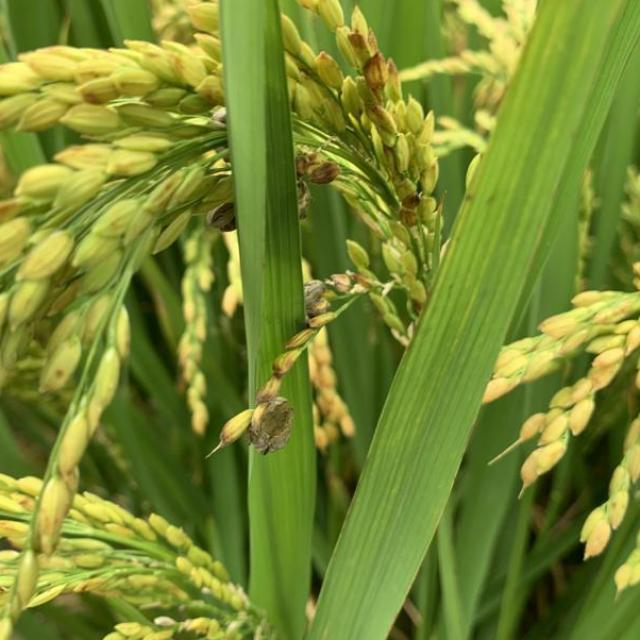Leaf_Scald: (247, 398, 295, 454), (300, 276, 334, 321), (204, 198, 238, 234)
